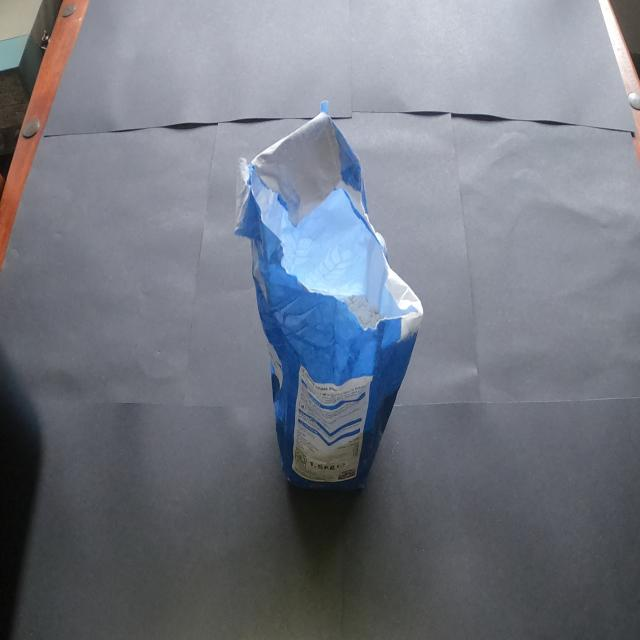Flour: (221, 90, 444, 516)
